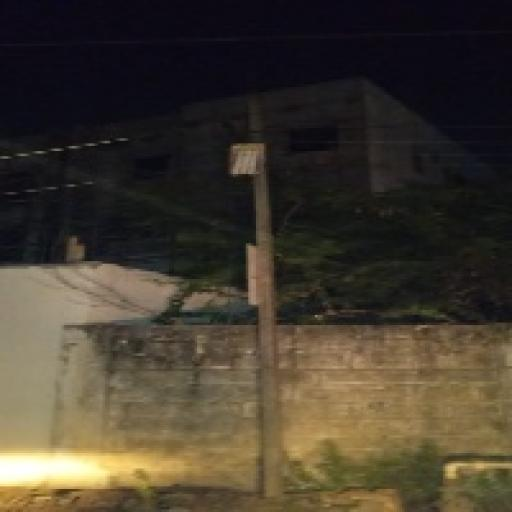Not Working: (210, 133, 268, 186)
